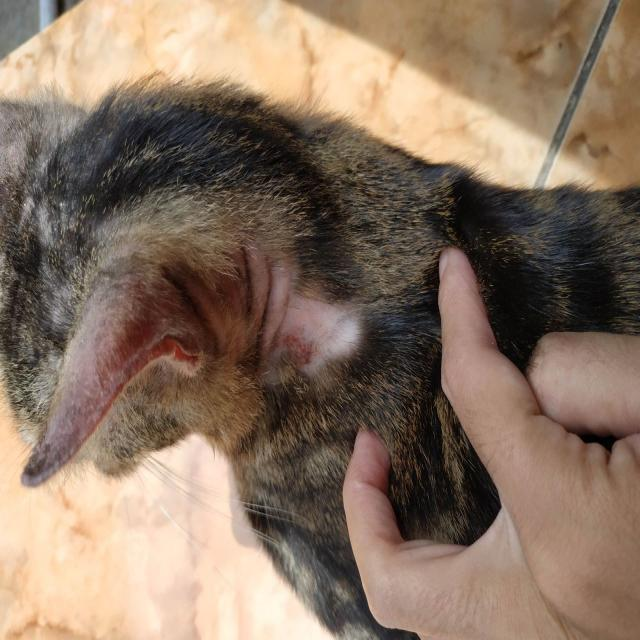hac lao: (232, 270, 378, 405)
